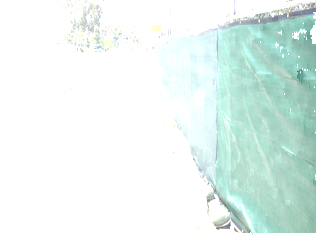Obstacle: (148, 6, 315, 234)
